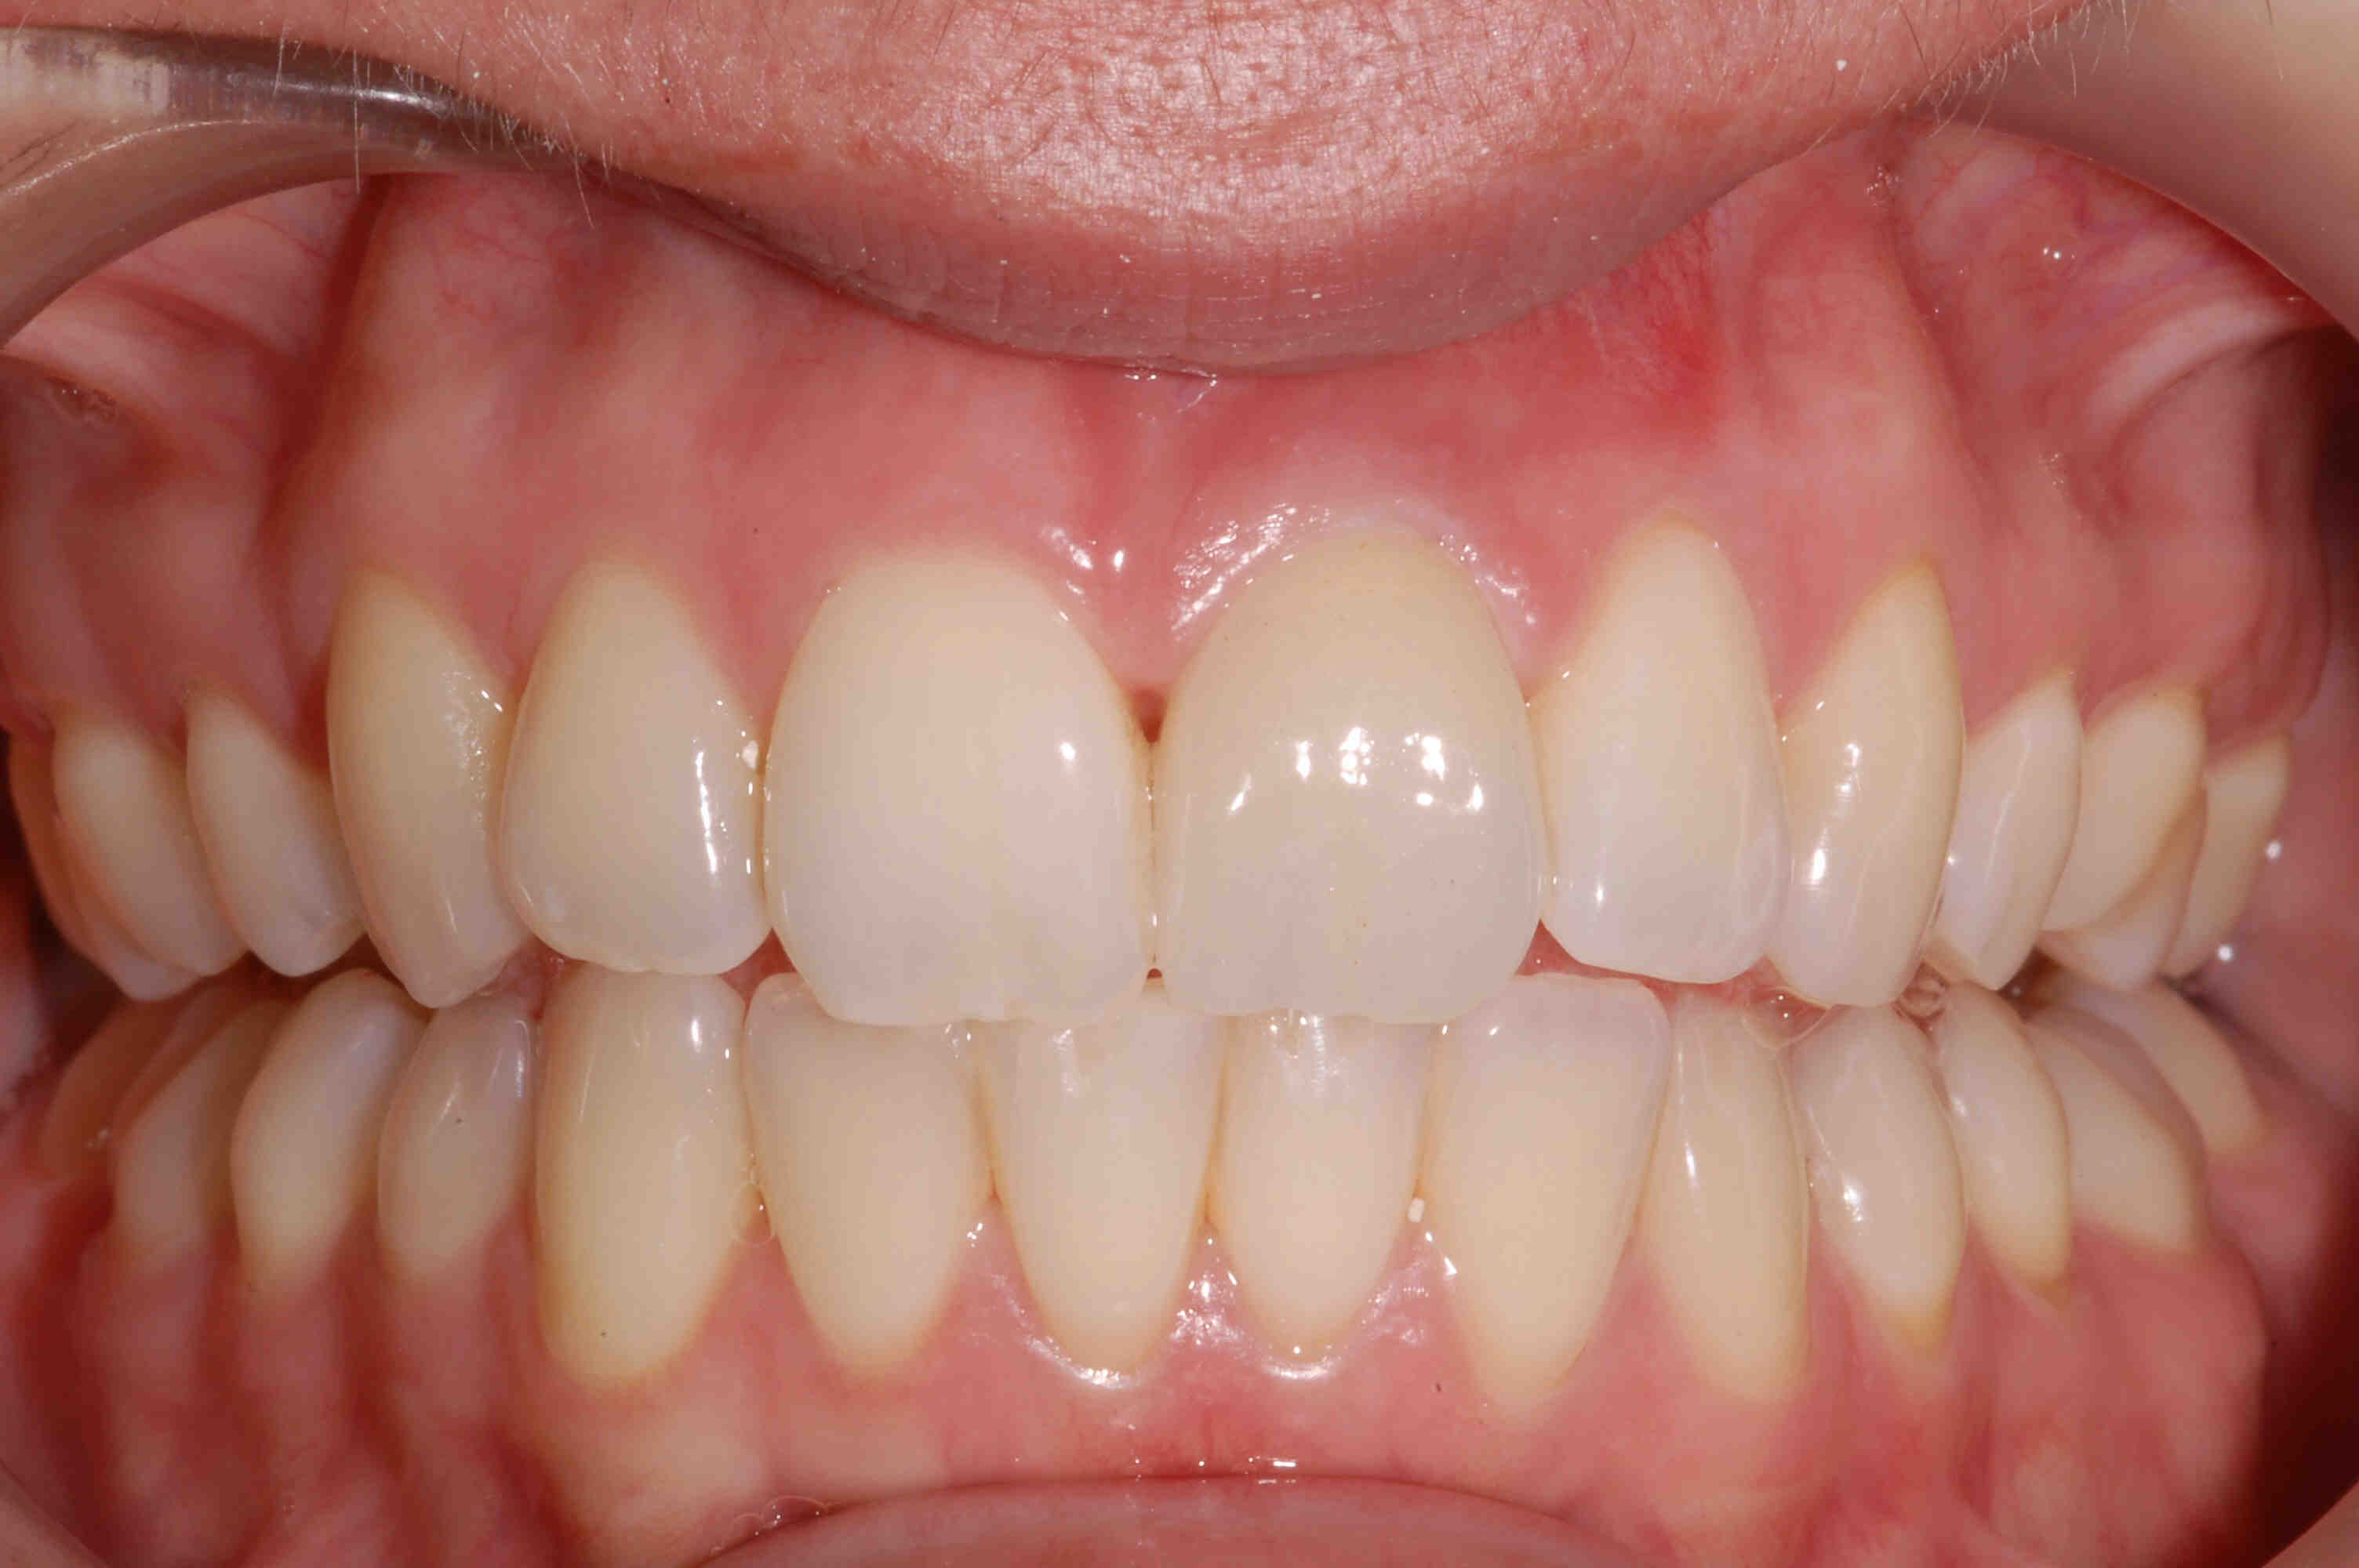LL1BC_healthy: (1808, 1015, 1958, 1326)
LL1M_healthy: (2041, 1008, 2203, 1251)
LL2BC_healthy: (1941, 1012, 2068, 1288)
LL2M_healthy: (2118, 978, 2254, 1160)
LLCI_healthy: (1221, 1025, 1423, 1342)
LLC_healthy: (1645, 1008, 1811, 1388)
LLLI_healthy: (1426, 994, 1666, 1395)
LR1BC_healthy: (380, 1010, 532, 1269)
LR1M_healthy: (121, 1001, 247, 1248)
LR2BC_healthy: (231, 985, 408, 1284)
LR2M_decay: (44, 994, 133, 1171)
LRCI_healthy: (984, 1017, 1225, 1346)
LRC_healthy: (539, 976, 749, 1377)
LRLI_healthy: (742, 1024, 984, 1360)
UL1BC_healthy: (1948, 679, 2084, 994)
UL2BC_healthy: (2058, 697, 2201, 936)
ULCI_healthy: (1155, 539, 1547, 1020)
ULC_healthy: (1785, 576, 1962, 1010)
ULLI_healthy: (1540, 520, 1783, 978)
UR1BC_healthy: (189, 698, 353, 976)
UR2BC_healthy: (61, 721, 215, 1003)
URCI_healthy: (765, 563, 1150, 1020)
URC_healthy: (325, 585, 502, 1008)
URLI_healthy: (502, 560, 765, 973)
